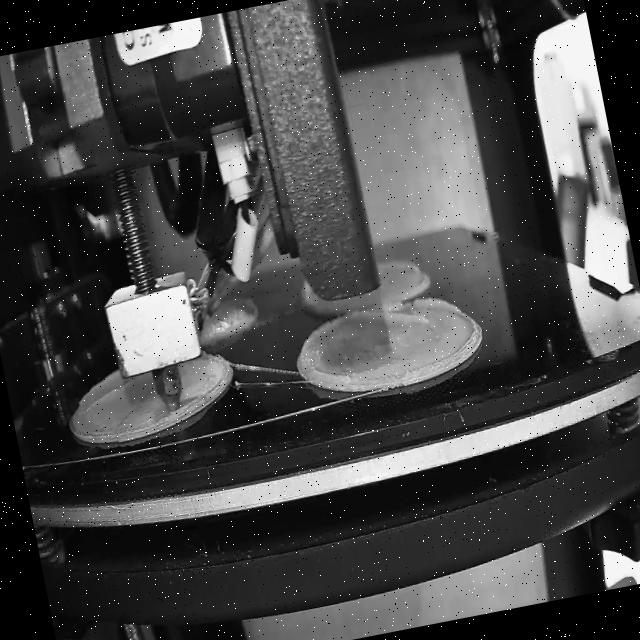over_extrusion: (353, 288, 464, 342), (287, 314, 353, 362), (86, 380, 136, 406)
